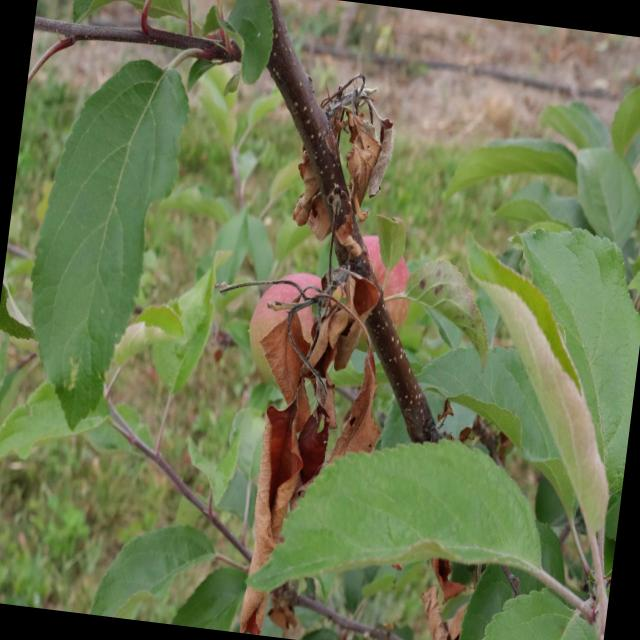-FireBlight-: (240, 276, 318, 636), (294, 77, 404, 262), (298, 267, 386, 472), (410, 565, 470, 640)
